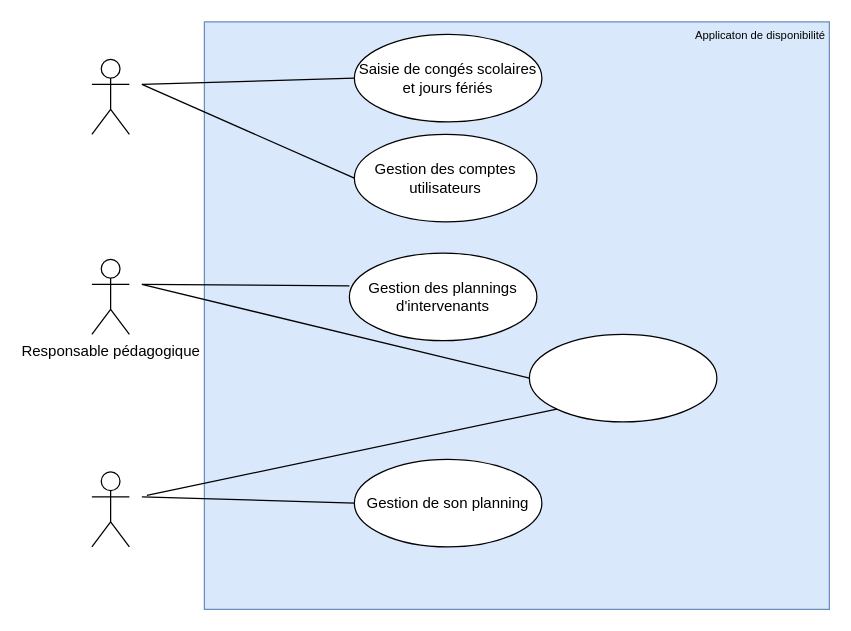
The diagram is 851 pixels wide and 631 high, and some of its shapes have lost their labels. The centre of each missing label's shape, as x and y in pixels:
Administrateur: point (110, 96)
Inscription: point (622, 377)
Intervenant: point (110, 509)
